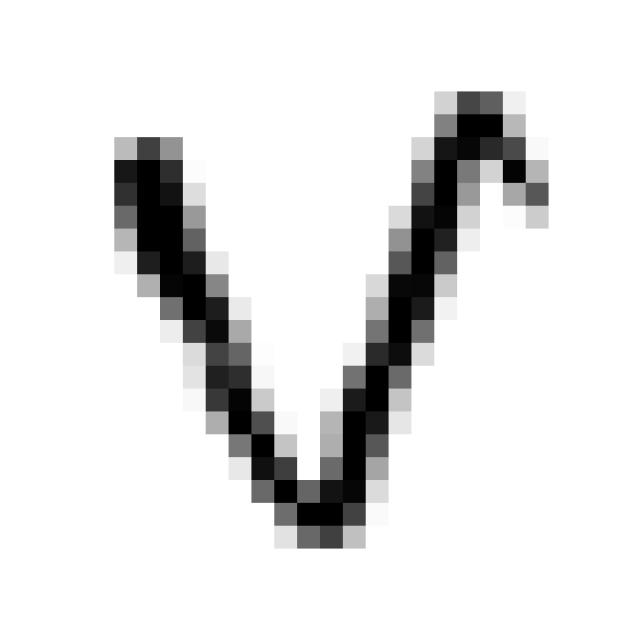7 -seven-: (94, 75, 563, 562)
